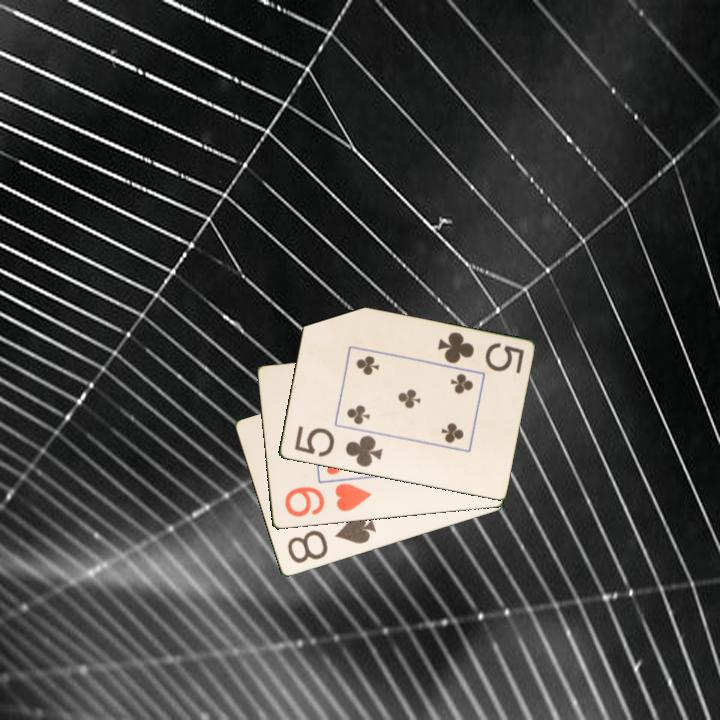5c: (434, 328, 527, 377), (291, 423, 385, 470)
8s: (283, 512, 379, 567)
9h: (281, 480, 374, 520)
